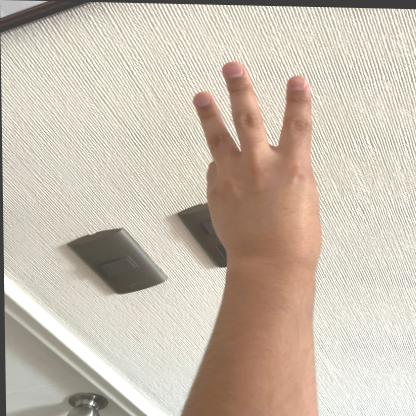W: (188, 53, 330, 265)
